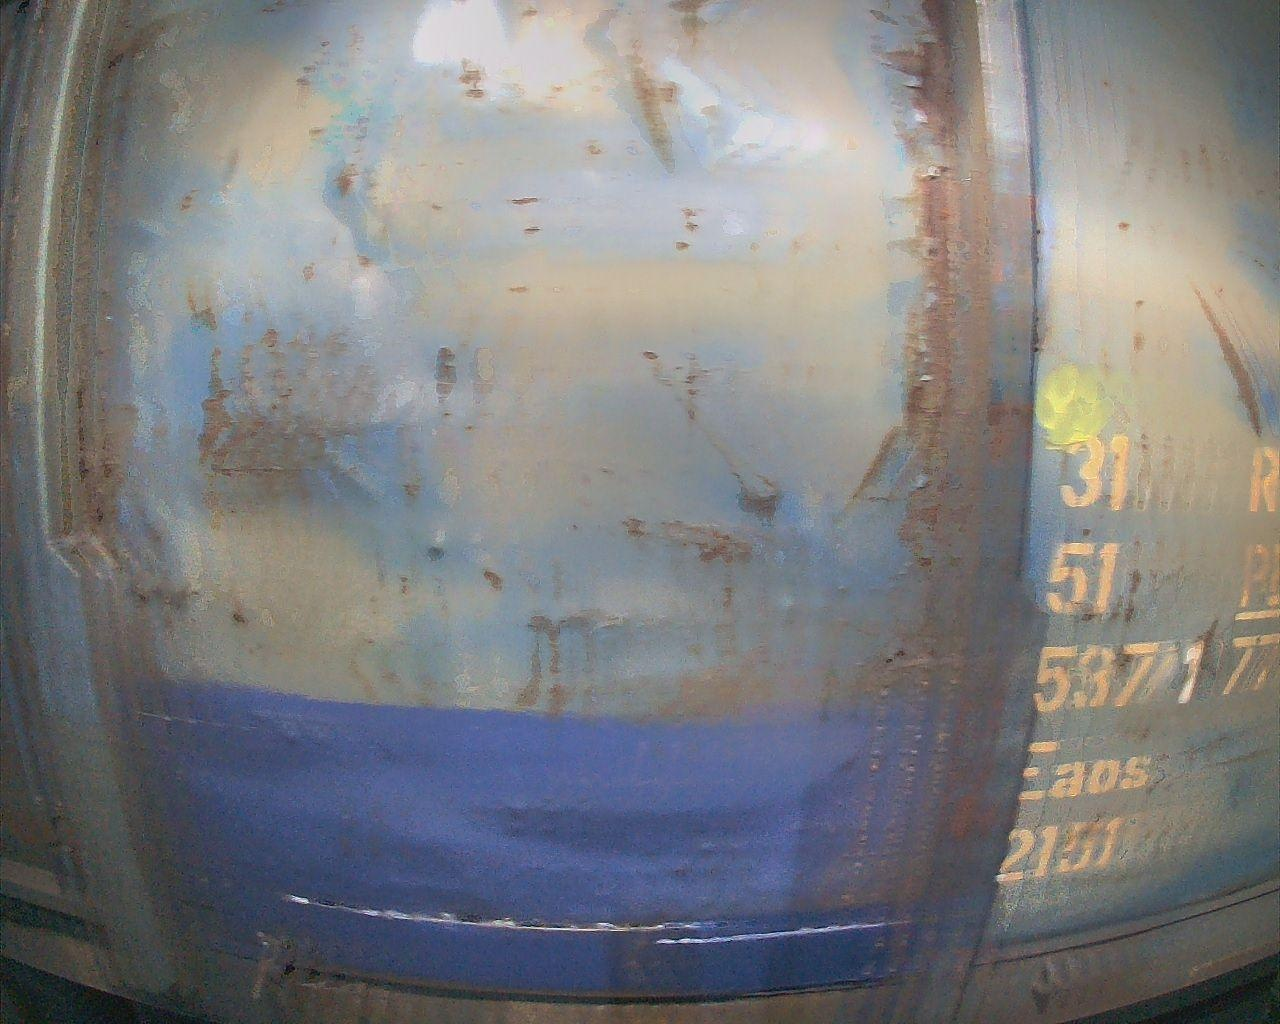UIC: (993, 430, 1280, 886)
